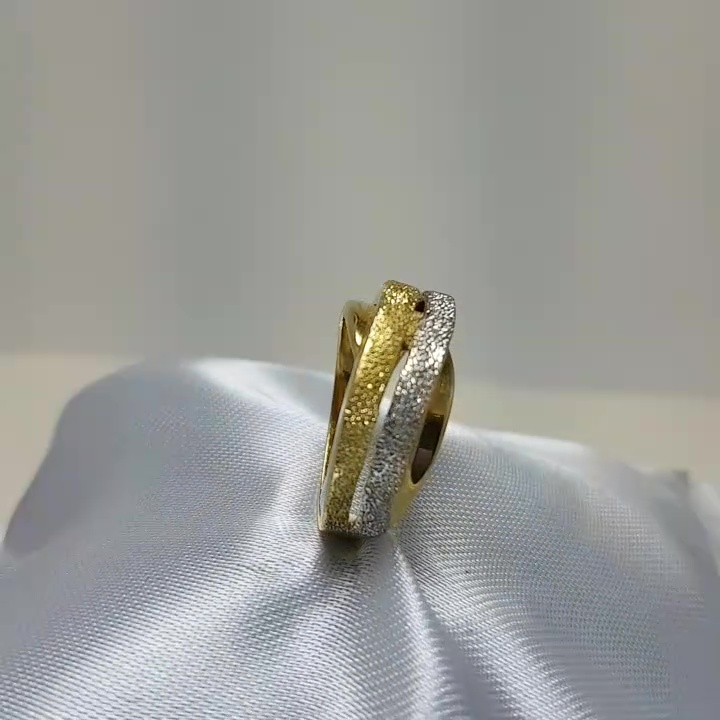Ring 5: (275, 272, 486, 558)
